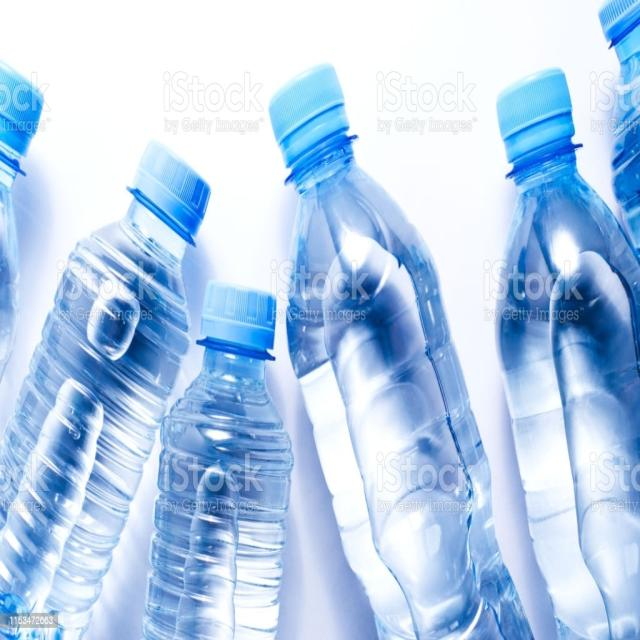plastic_bottle: (268, 61, 536, 638)
